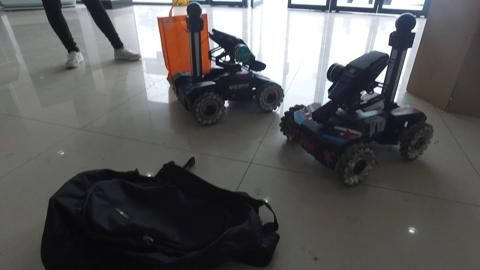bag: (35, 160, 279, 270)
chariot: (284, 11, 440, 187), (168, 4, 284, 125)
